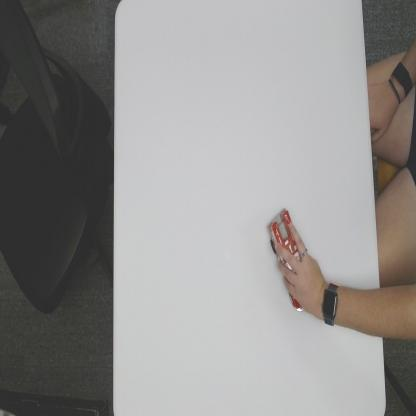Arm: (340, 278, 416, 343)
Firetruck: (265, 204, 309, 315)
Hand: (274, 220, 321, 318)
